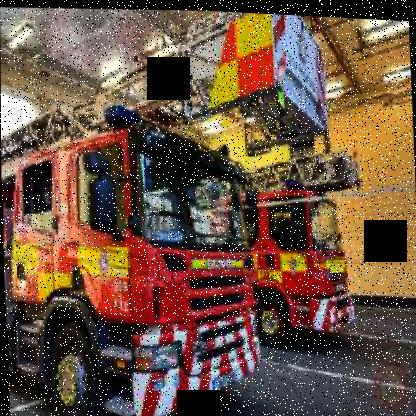emergency: (0, 0, 345, 415), (227, 136, 378, 353)
